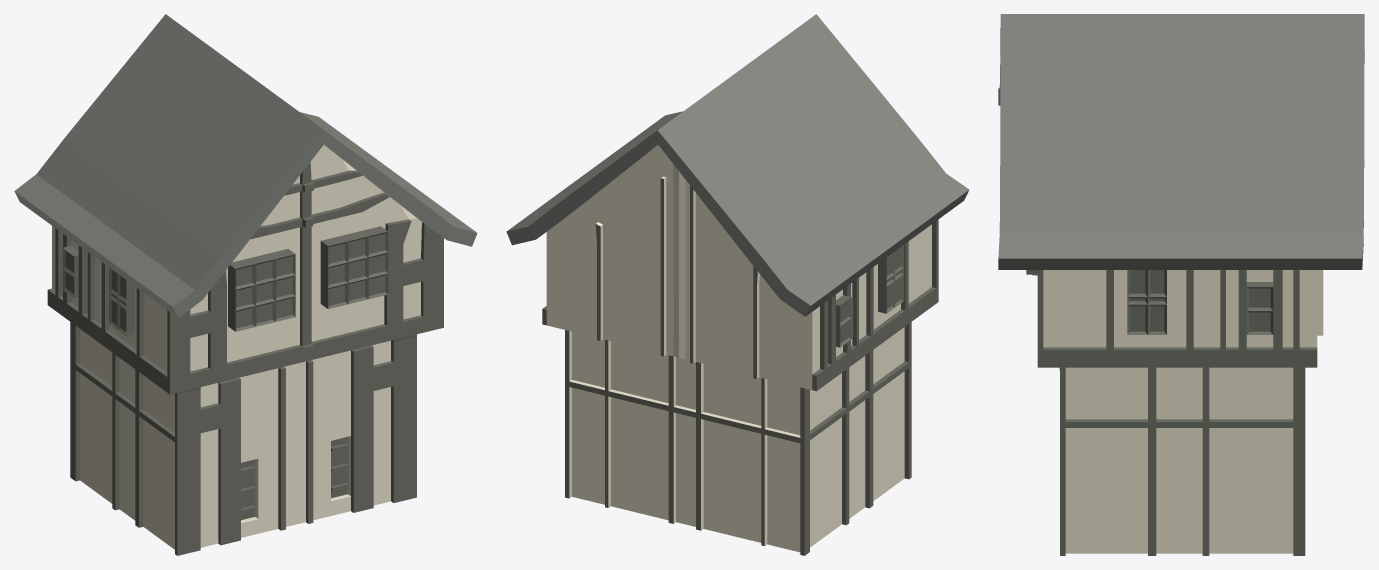
Rendered from Home2.fbx.
The picture shows the model from 3 angles, left to right: view 1: azimuth 30°, elevation 25°; view 2: azimuth 150°, elevation 25°; view 3: azimuth 270°, elevation 25°; orthographic projection. The views are drawn at different scales.
Visible parts, largest first — view 1: Home2Base, Home2Roof; view 2: Home2Base, Home2Roof; view 3: Home2Roof, Home2Base.
Boxes of the visible parts, x1,y1,x2,y2 form: Home2Base: [47, 145, 443, 555]; Home2Roof: [14, 14, 477, 318]; Home2Base: [542, 145, 938, 555]; Home2Roof: [506, 14, 969, 316]; Home2Roof: [998, 14, 1364, 269]; Home2Base: [1026, 270, 1323, 555].
Size of the model in its own units: 719 by 937 by 654.
